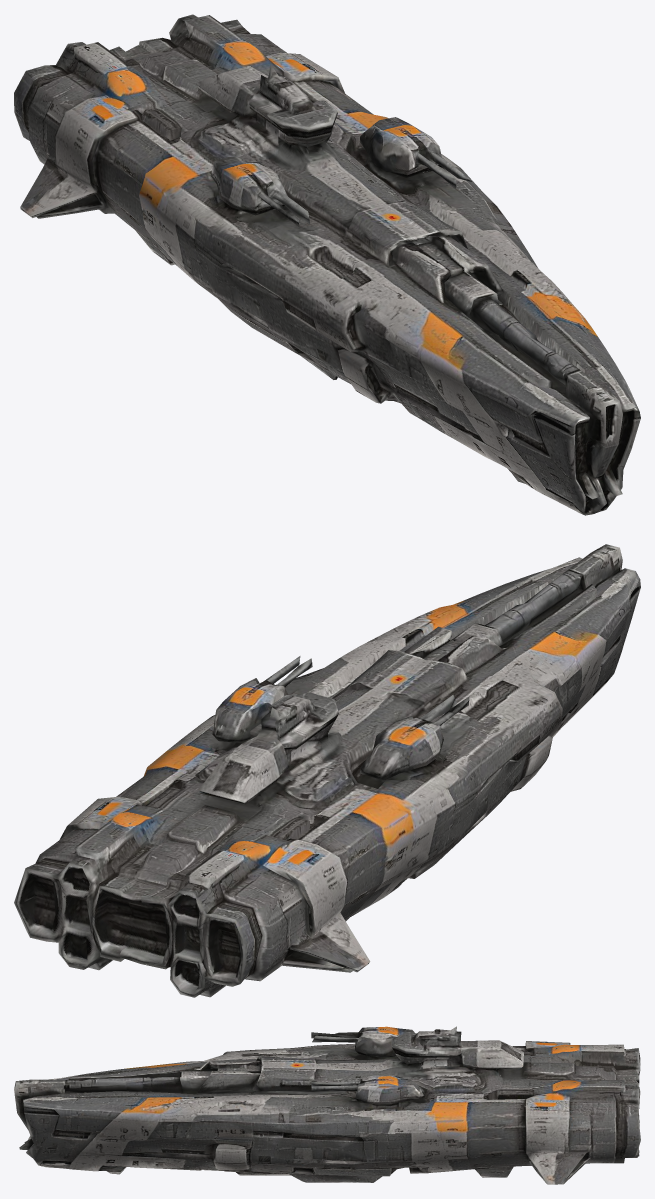
File: battleship-high.glb
The picture shows the model from 3 angles, top to bottom: view 1: azimuth 30°, elevation 25°; view 2: azimuth 150°, elevation 25°; view 3: azimuth 270°, elevation 25°; orthographic projection. The views are drawn at different scales.
Parts seen in each view (by area): view 1: tripo_node_22e52a95-fac9-49c3-8e03-a66fe49468d4; view 2: tripo_node_22e52a95-fac9-49c3-8e03-a66fe49468d4; view 3: tripo_node_22e52a95-fac9-49c3-8e03-a66fe49468d4.
Boxes of the visible parts, <box> form: tripo_node_22e52a95-fac9-49c3-8e03-a66fe49468d4: <box>14,14,640,515</box>; tripo_node_22e52a95-fac9-49c3-8e03-a66fe49468d4: <box>14,544,640,997</box>; tripo_node_22e52a95-fac9-49c3-8e03-a66fe49468d4: <box>14,1026,640,1184</box>.
Bounding box in the file's own units: 0.7762 × 0.4919 × 1.93.
1 material, 1 textured.
